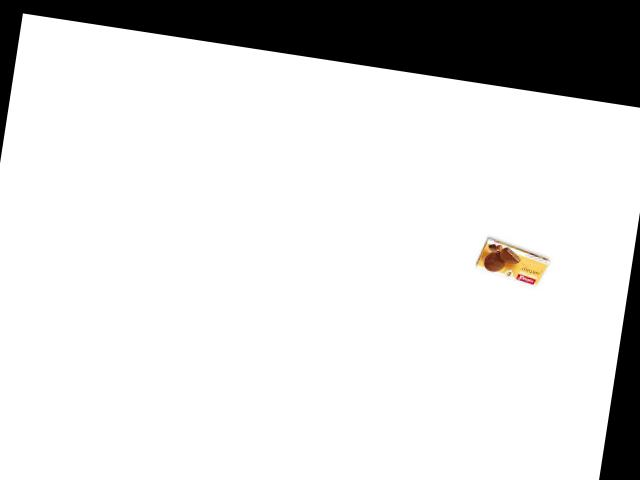chocolate: (469, 242, 562, 289)
